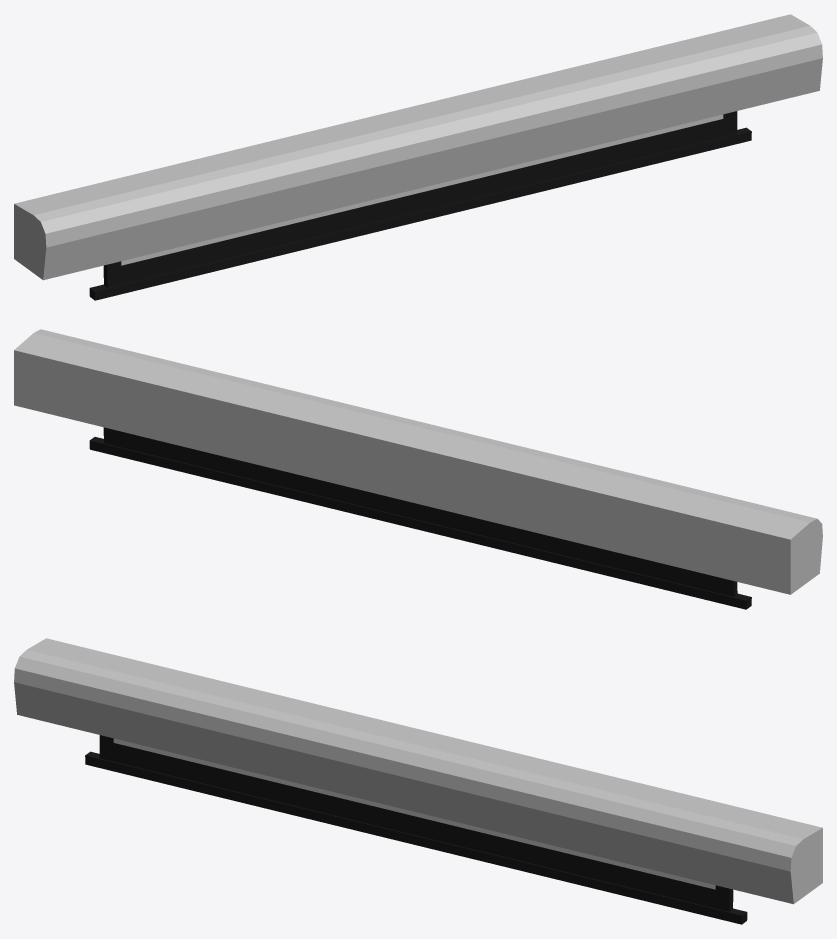
Rendered from Int_TechScreen01_2.fbx.
3 renders of one model, top to bottom at view 1: azimuth 30°, elevation 25°; view 2: azimuth 150°, elevation 25°; view 3: azimuth 330°, elevation 25°, orthographic.
Parts seen in each view (by area): view 1: Int_TechScreen01_2; view 2: Int_TechScreen01_2; view 3: Int_TechScreen01_2.
Boxes of the visible parts, left/top/right/bottom form: Int_TechScreen01_2: left=14, top=14, right=822, bottom=300; Int_TechScreen01_2: left=14, top=329, right=822, bottom=609; Int_TechScreen01_2: left=14, top=638, right=822, bottom=924.
Size of what is drawn, in the model's own units: 308 by 22.21 by 37.59.
